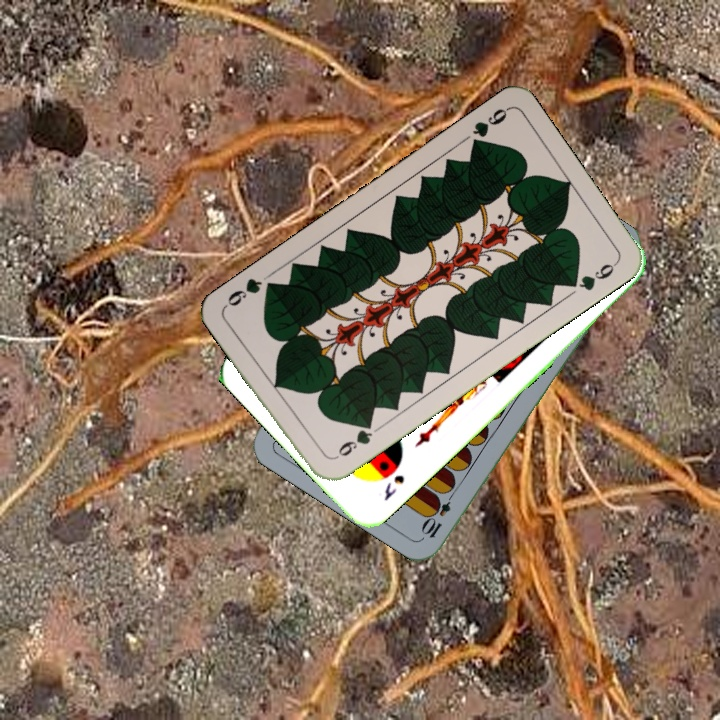E10: (419, 485, 458, 541)
G9: (328, 417, 376, 463), (466, 104, 511, 152)
SK: (380, 470, 408, 504)
